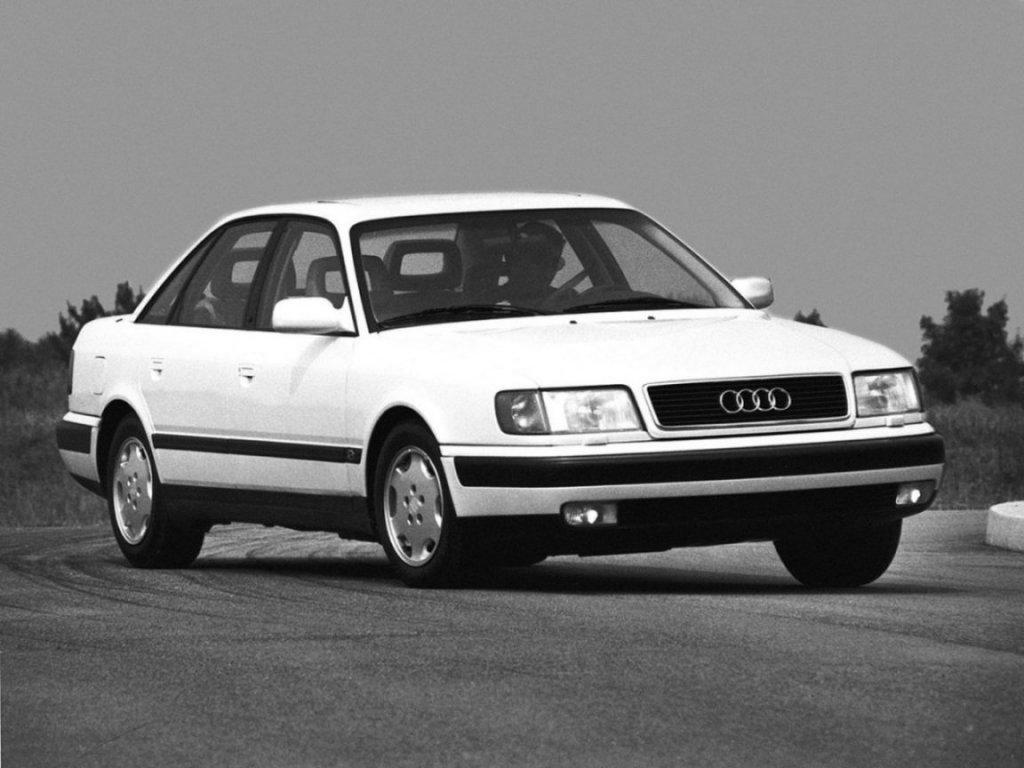car: (57, 191, 948, 592)
